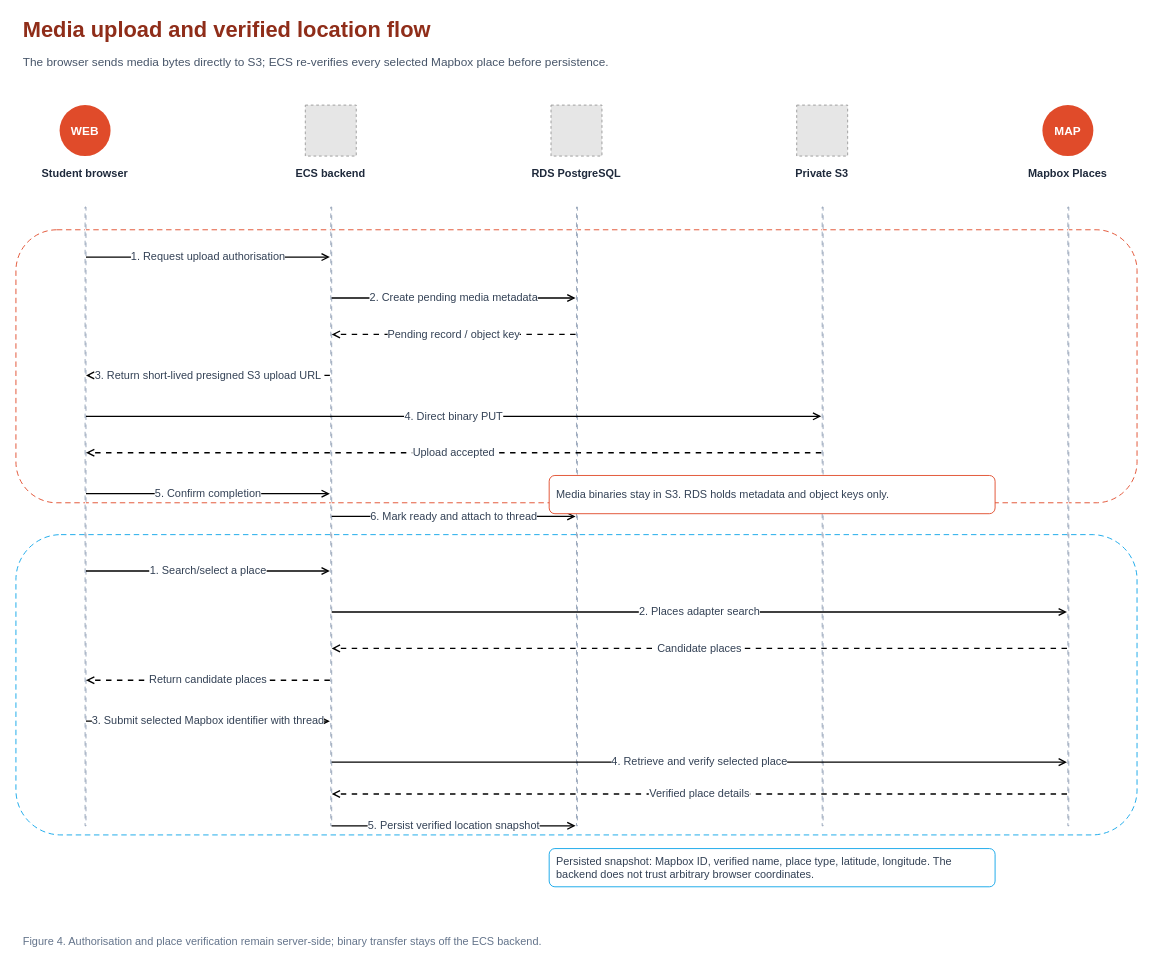
The diagram is 1153 pixels wide and 967 high, and some of its shapes have lost their labels. Grey dashed boxes stand in for pictures. Each missing label, with the box of its shape:
Media upload lane: (15, 229, 1137, 503)
Verified location lane: (15, 534, 1137, 835)
